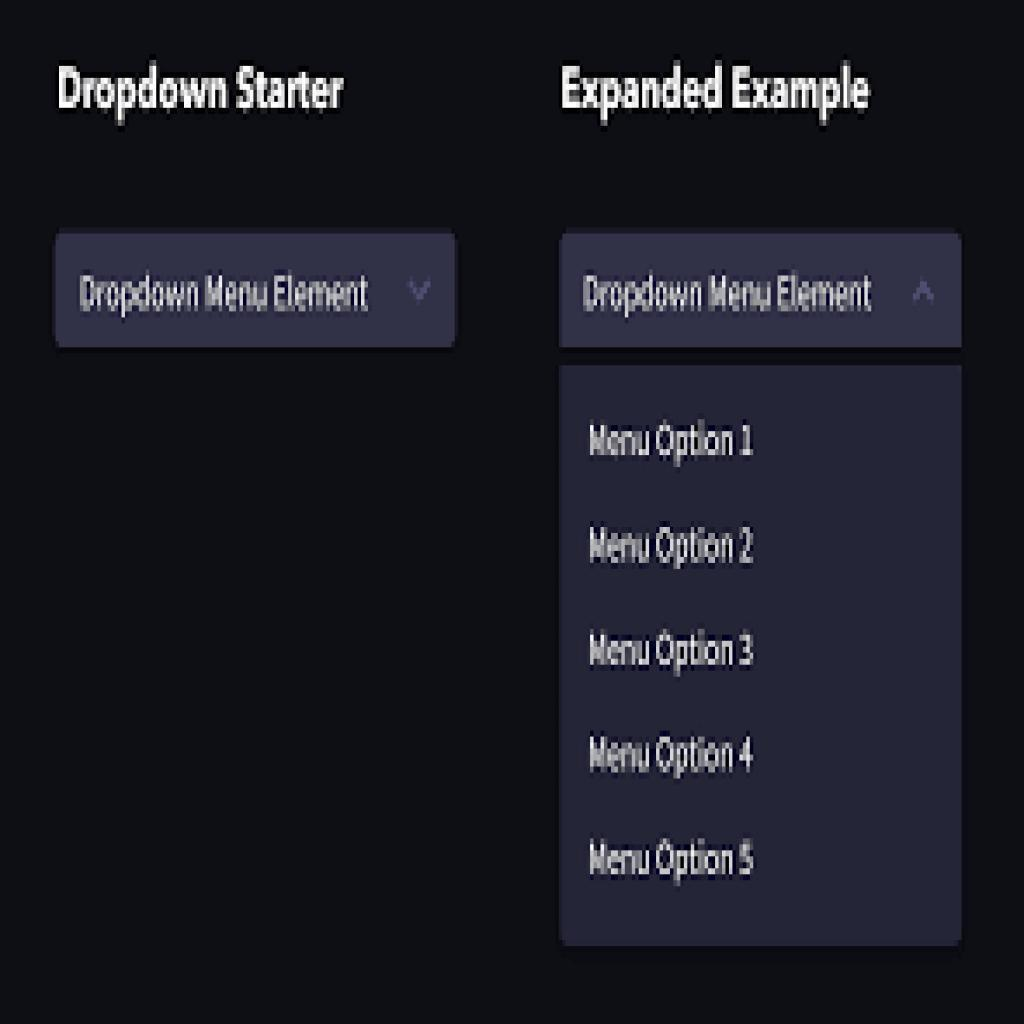dropdown: (557, 235, 963, 346), (55, 237, 457, 347)
